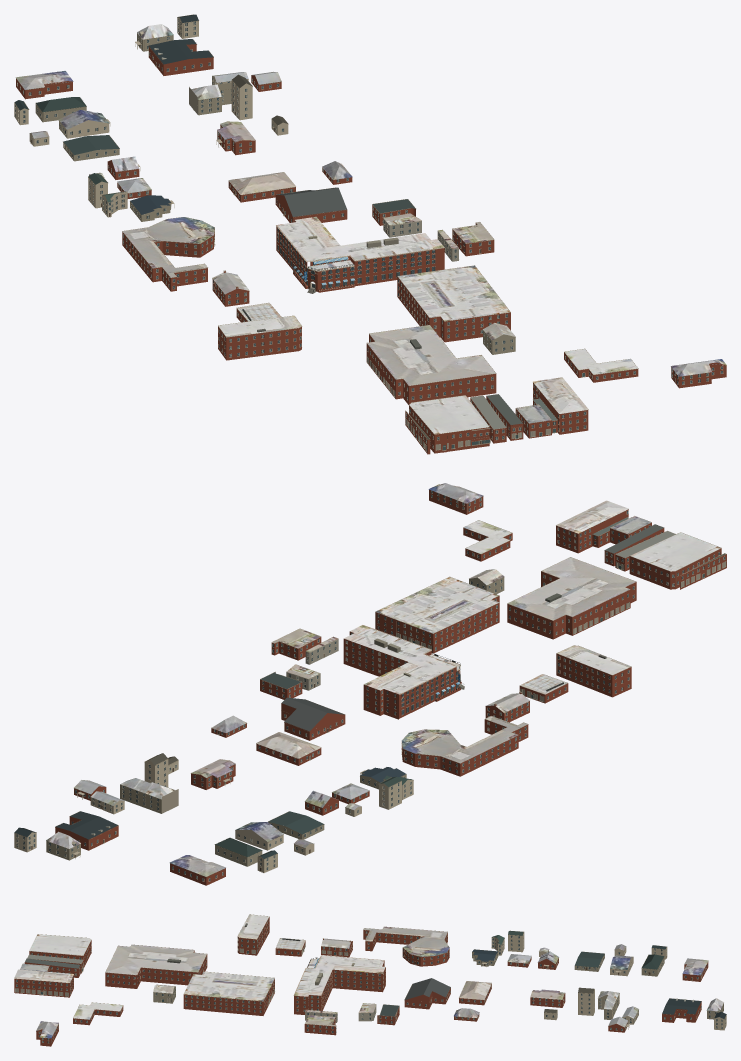
3 renders of one model, top to bottom at view 1: azimuth 30°, elevation 25°; view 2: azimuth 150°, elevation 25°; view 3: azimuth 270°, elevation 25°, orthographic. The views are drawn at different scales.
Parts seen in each view (by area): view 1: 0_-1_451755569_0, 0_-1_451755569_1, 0_-1_625342609_23, 0_-1_599833470_7, 0_-1_599838206_14; view 2: 0_-1_451755569_0, 0_-1_451755569_1, 0_-1_625342609_23, 0_-1_599833470_7, 0_-1_599838206_14, 0_-1_-6782_188; view 3: 0_-1_451755569_0, 0_-1_451755569_1, 0_-1_625342609_23, 0_-1_599833470_7, 0_-1_-6782_188.
Boxes of the visible parts, bbox=[...] form: 0_-1_451755569_0: bbox=[14, 14, 726, 454]; 0_-1_451755569_1: bbox=[16, 24, 726, 443]; 0_-1_625342609_23: bbox=[14, 17, 288, 216]; 0_-1_599833470_7: bbox=[35, 33, 515, 354]; 0_-1_599838206_14: bbox=[276, 225, 444, 293]; 0_-1_451755569_0: bbox=[14, 489, 726, 885]; 0_-1_451755569_1: bbox=[31, 483, 720, 876]; 0_-1_625342609_23: bbox=[14, 759, 413, 872]; 0_-1_599833470_7: bbox=[46, 577, 504, 866]; 0_-1_599838206_14: bbox=[363, 625, 464, 715]; 0_-1_-6782_188: bbox=[286, 639, 338, 690]; 0_-1_451755569_0: bbox=[14, 914, 726, 1046]; 0_-1_451755569_1: bbox=[14, 914, 723, 1038]; 0_-1_625342609_23: bbox=[491, 932, 726, 1030]; 0_-1_599833470_7: bbox=[153, 952, 723, 1019]; 0_-1_-6782_188: bbox=[305, 1005, 376, 1022].
Size of the model in its own units: 209 by 24.25 by 521.
21 materials, 1 textured.
